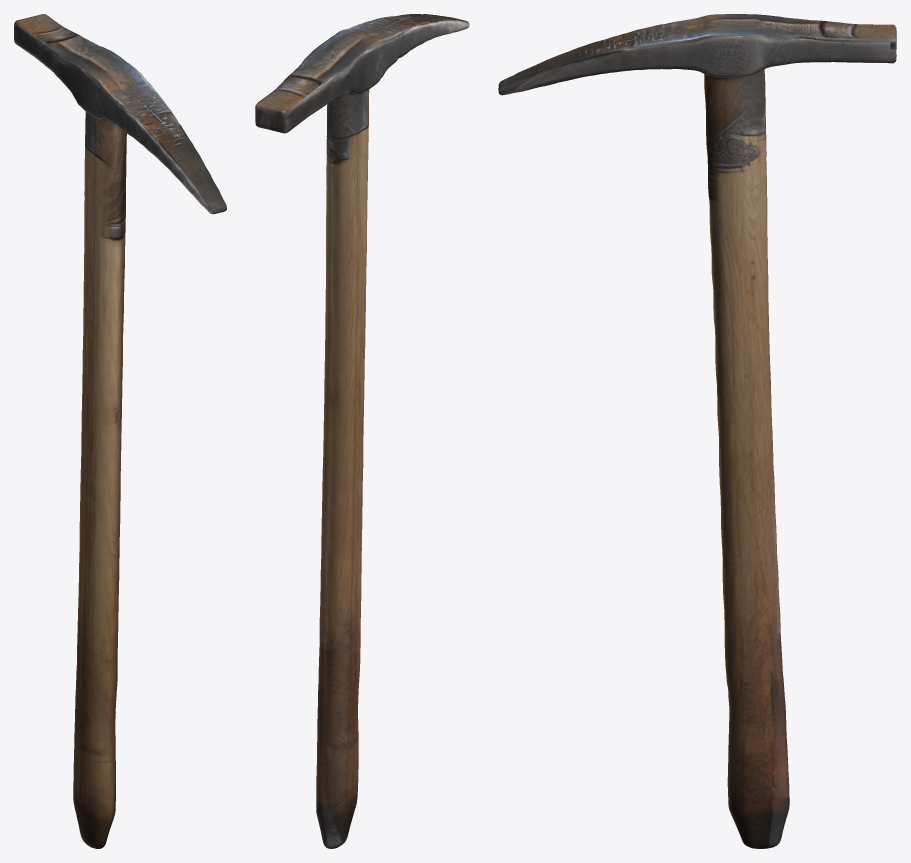
File: Create_a_3D_model_of__1004233534_refine.fbx
The picture shows the model from 3 angles, left to right: view 1: azimuth 30°, elevation 25°; view 2: azimuth 150°, elevation 25°; view 3: azimuth 270°, elevation 25°; orthographic projection. The views are drawn at different scales.
Visible parts, largest first — view 1: Mesh_0; view 2: Mesh_0; view 3: Mesh_0.
Boxes of the visible parts, <box> form: Mesh_0: <box>14,14,226,848</box>; Mesh_0: <box>255,14,469,848</box>; Mesh_0: <box>498,14,896,848</box>.
Bounding box in the file's own units: 11.23 × 200 × 87.49.
Materials: 1 (1 with a texture image).
